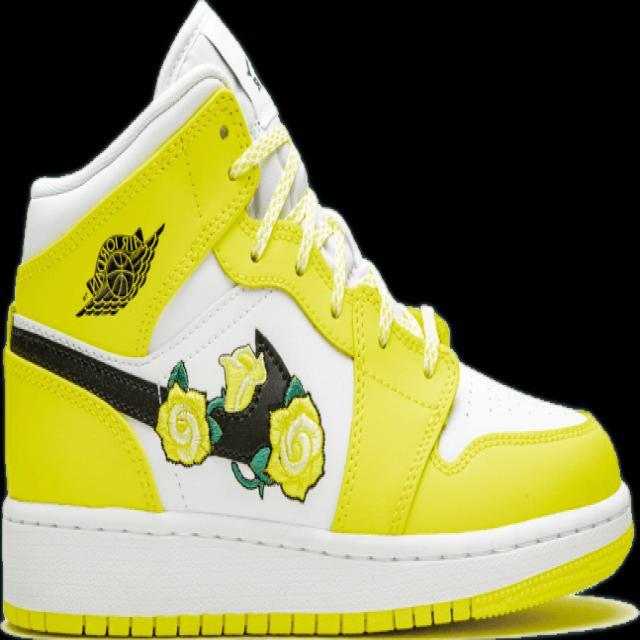J1_InsoleChar: (0, 0, 638, 639)
J1_ShoeLogo: (153, 326, 326, 503), (73, 221, 165, 318), (153, 359, 213, 466)
J1_StitchPattern: (0, 487, 637, 638), (5, 310, 327, 502), (225, 117, 450, 377), (0, 501, 636, 569), (0, 592, 639, 639), (226, 118, 354, 318), (6, 318, 162, 428), (227, 119, 302, 263), (414, 302, 443, 379)
